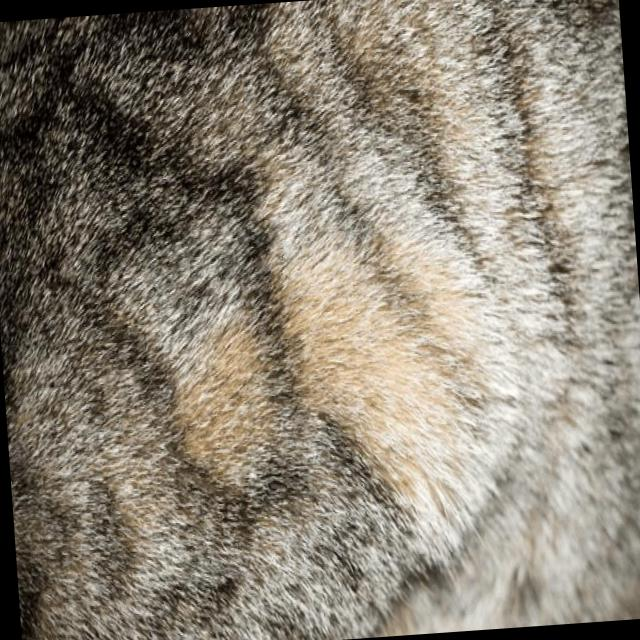Healthy skin: (271, 0, 639, 322), (0, 246, 280, 600), (291, 348, 608, 600), (0, 7, 276, 234)
